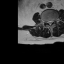CCS_normal: (49, 18, 51, 27)
LFS_stenosis: (52, 18, 54, 24)
LLS_normal: (51, 18, 52, 25)
RFS_stenosis: (45, 18, 47, 25)
RLS_normal: (47, 19, 49, 25)
